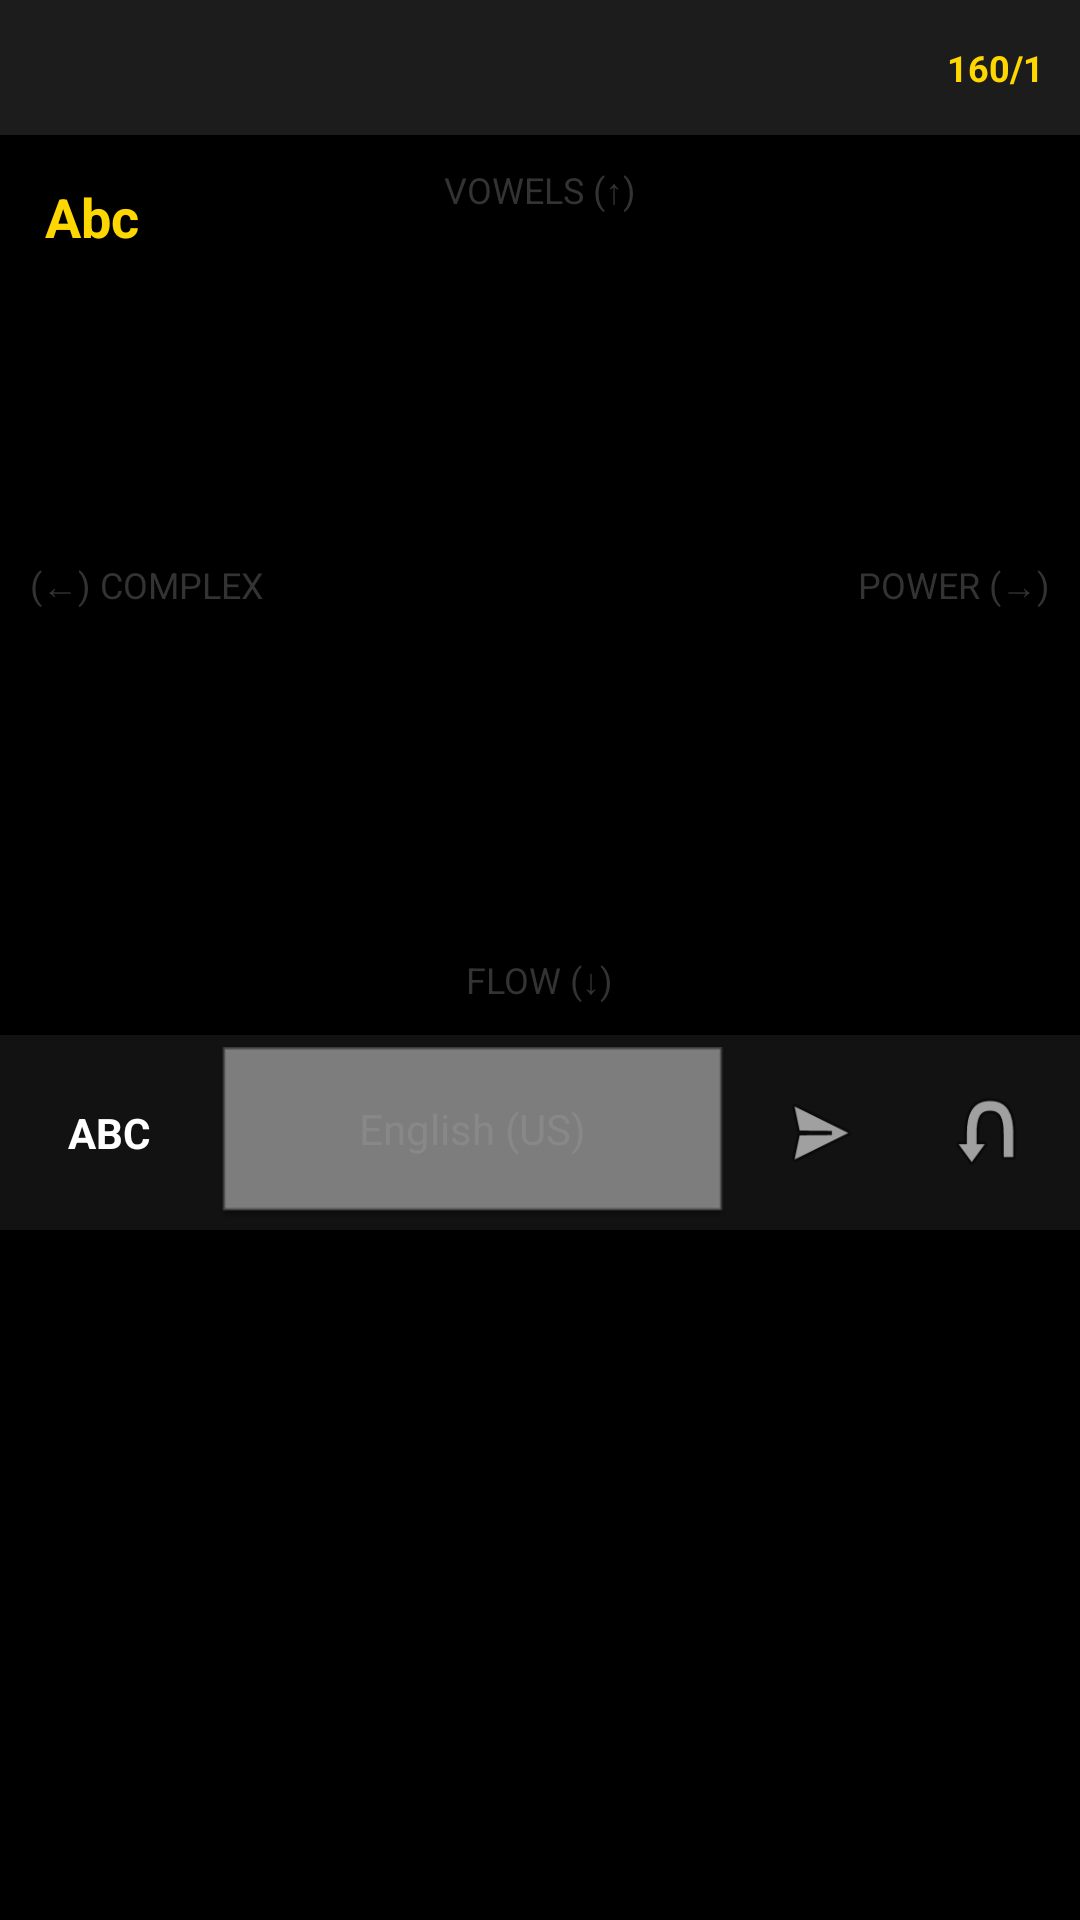

Icons on this 1080×1920 Android screen, each with its box as (x1, y1, x2, y2):
Send: (794, 1107, 848, 1159)
